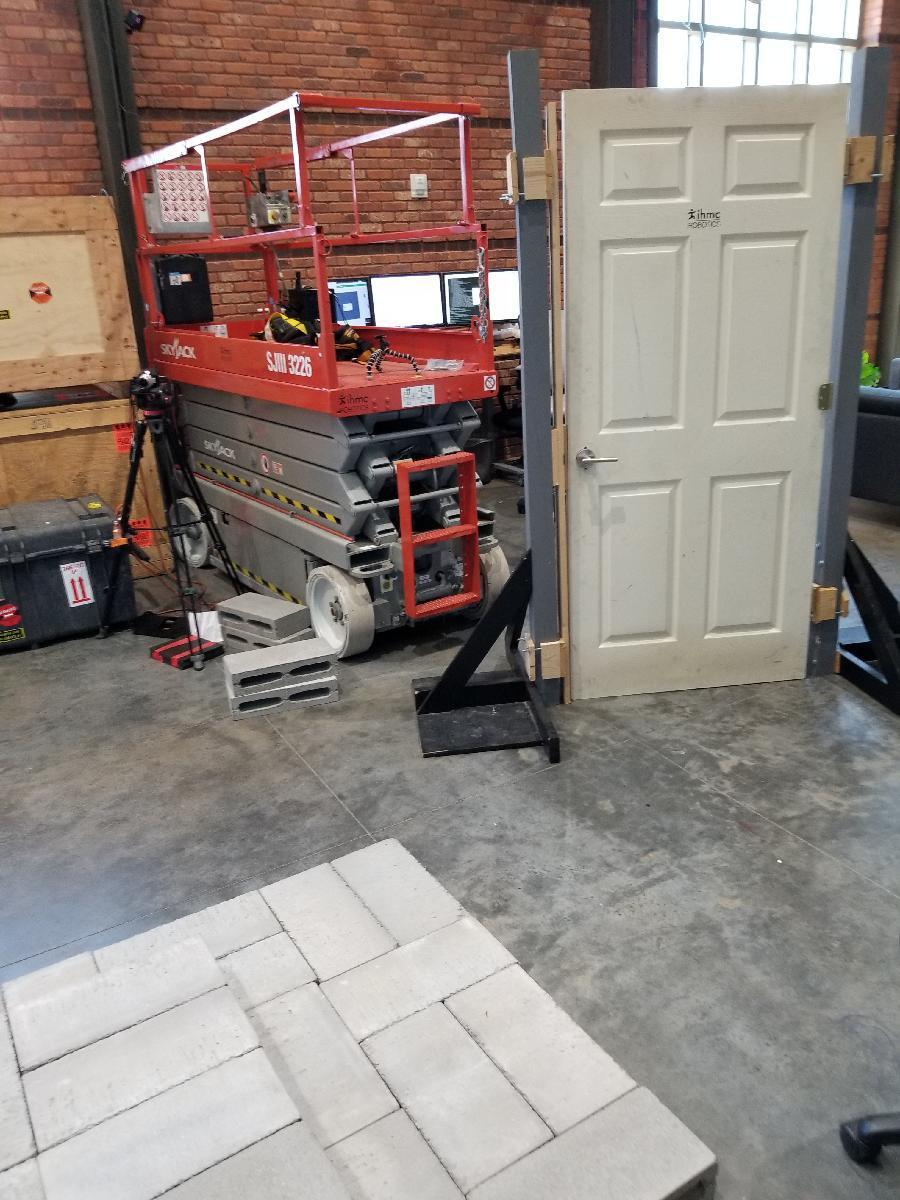door: (564, 84, 822, 694)
handle: (578, 446, 620, 472)
